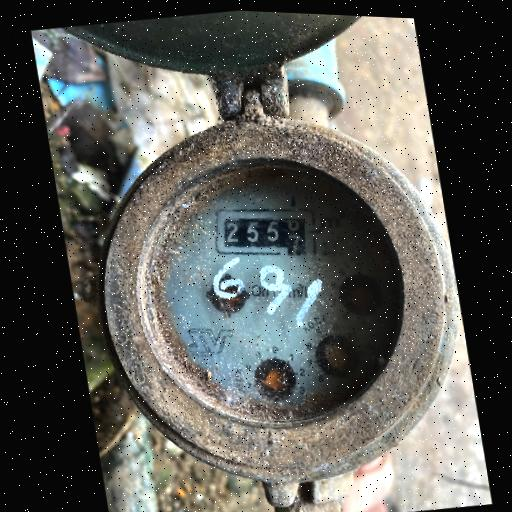2: (221, 216, 247, 250)
5: (260, 215, 290, 250), (239, 215, 267, 251)
6: (282, 216, 310, 258)
border_water_meter_number: (209, 192, 323, 271)
